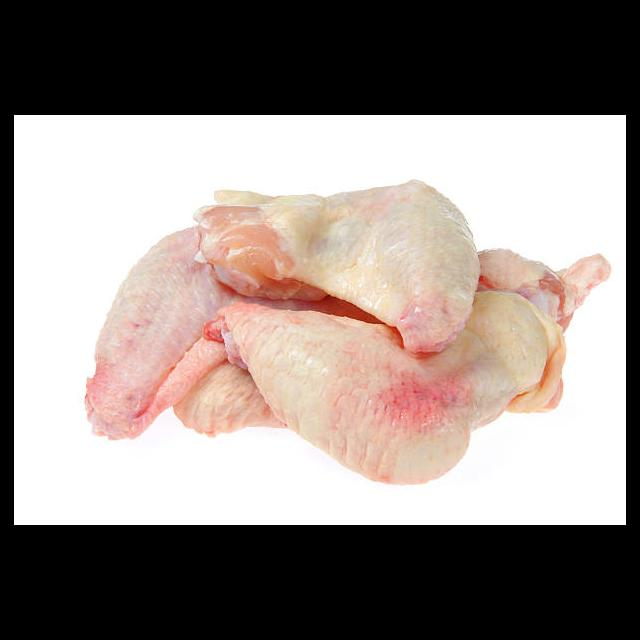chicken: (81, 178, 612, 487)
